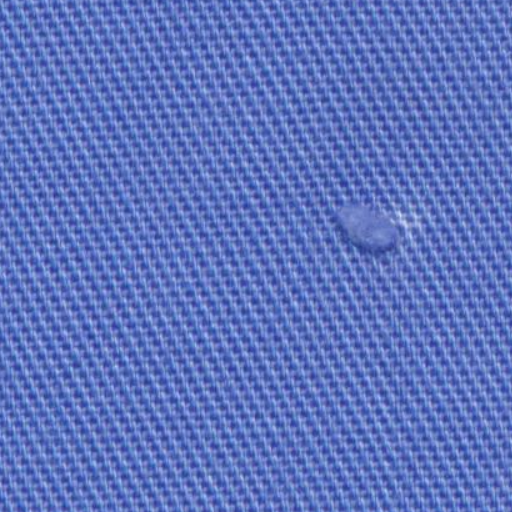MianQiu: (322, 184, 430, 283)
